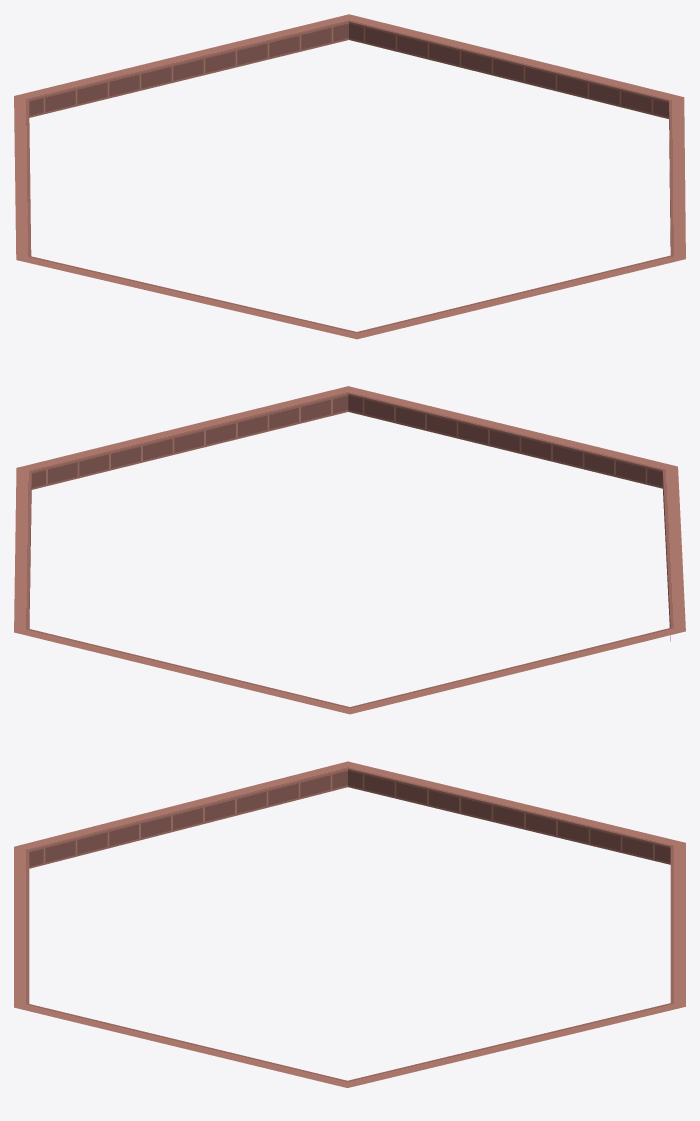
File: kd_stage_136282_2_5.glb
The picture shows the model from 3 angles, top to bottom: view 1: azimuth 30°, elevation 25°; view 2: azimuth 150°, elevation 25°; view 3: azimuth 270°, elevation 25°; orthographic projection.
Parts seen in each view (by area): view 1: kd_stage_136282_2_5; view 2: kd_stage_136282_2_5; view 3: kd_stage_136282_2_5.
Part boxes in pixels (x1,y1,x2,y2): kd_stage_136282_2_5: (14, 14, 685, 339); kd_stage_136282_2_5: (14, 386, 685, 714); kd_stage_136282_2_5: (14, 761, 685, 1087).
Bounding box in the file's own units: 19.04 × 0.5 × 16.55.
1 material, 1 textured.
